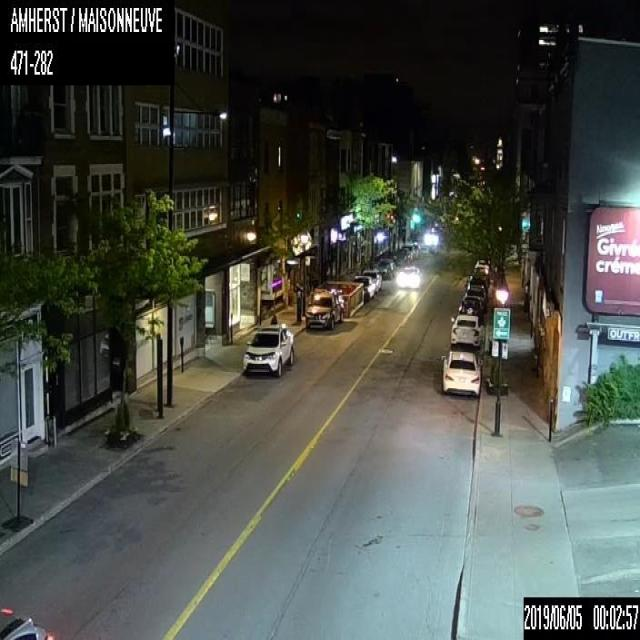pedestrian: (269, 312, 277, 323)
vehicle: (242, 323, 294, 376), (440, 349, 482, 396), (0, 604, 54, 639), (304, 288, 344, 332), (450, 313, 483, 347), (458, 296, 483, 325), (464, 281, 486, 310), (352, 274, 375, 298), (398, 265, 422, 287), (466, 274, 488, 295), (361, 269, 381, 291), (376, 258, 394, 278), (474, 259, 491, 276), (392, 248, 410, 263), (401, 244, 415, 261), (409, 242, 420, 257)
